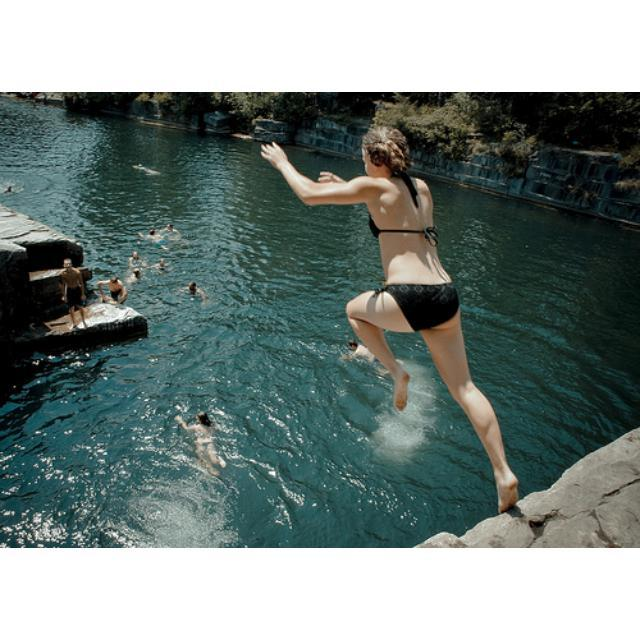human: (257, 119, 524, 506), (176, 409, 220, 476), (99, 272, 127, 304), (141, 227, 170, 247), (178, 280, 204, 299), (132, 163, 162, 175), (148, 253, 165, 273), (130, 265, 145, 286), (164, 220, 178, 239), (130, 251, 144, 263), (4, 182, 15, 197)
